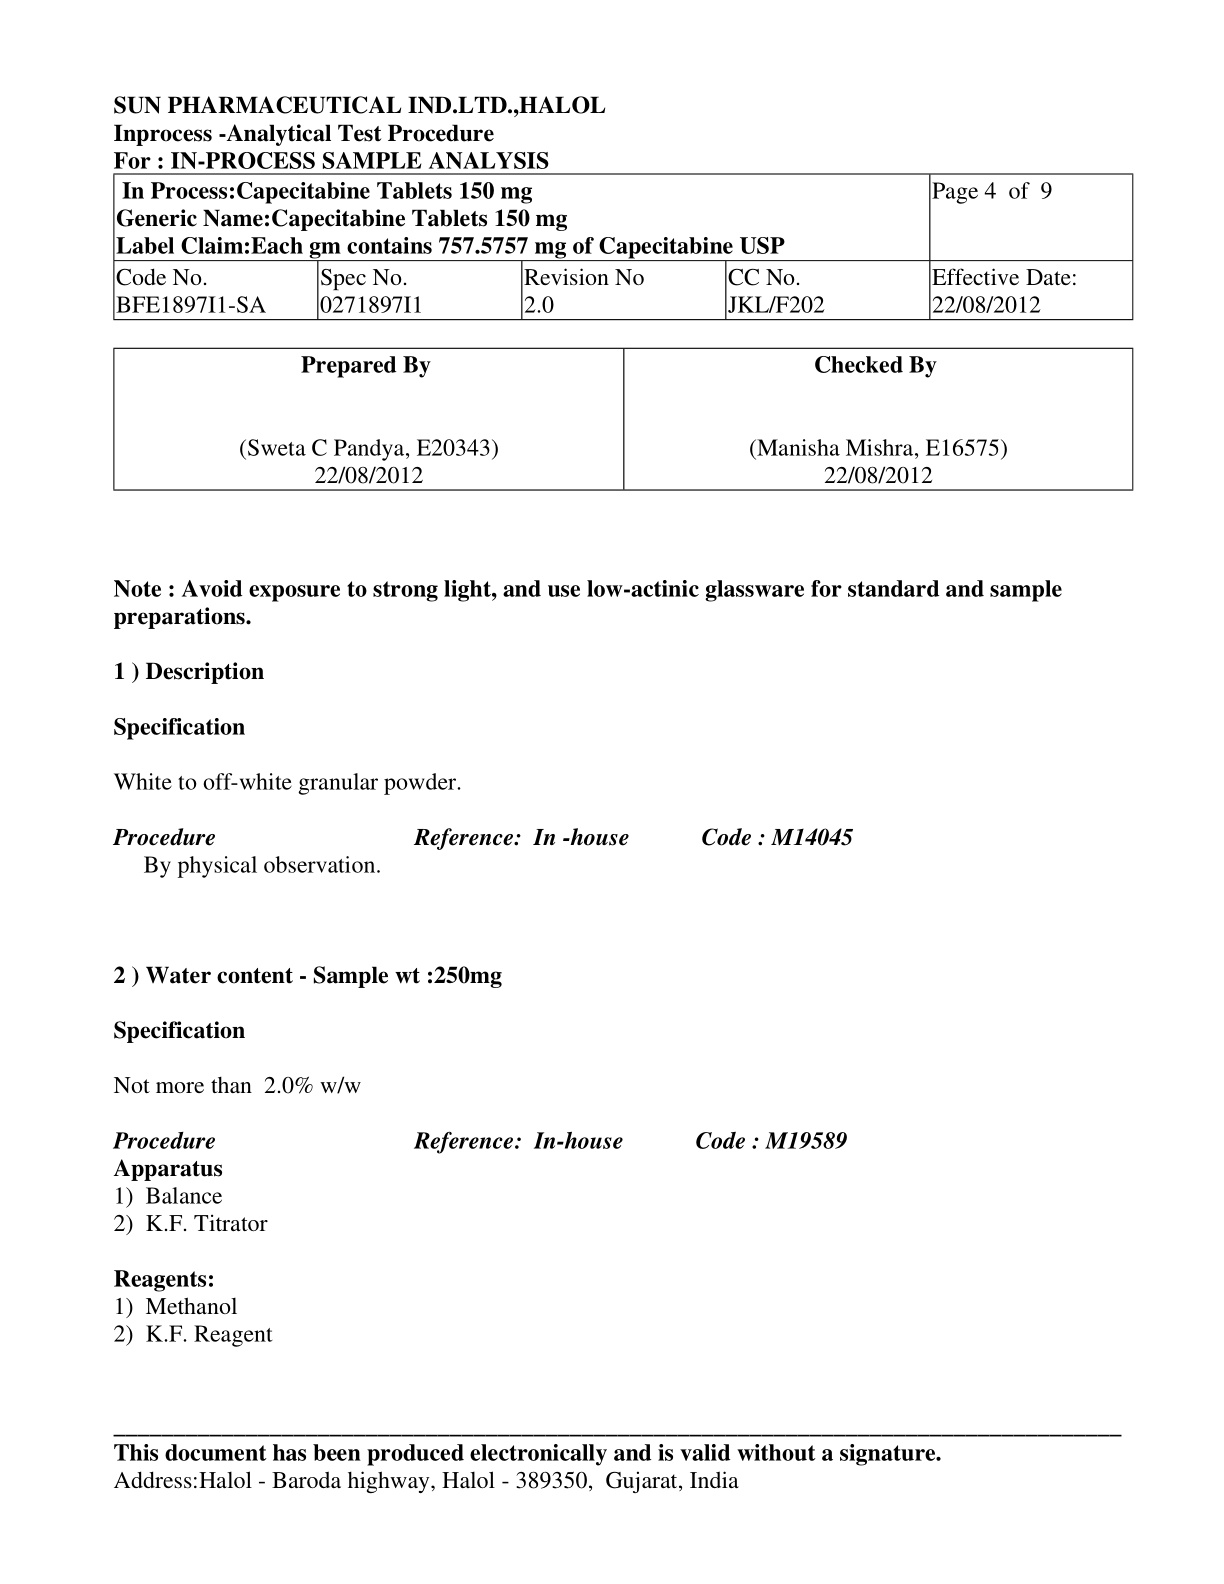full_lined: (112, 347, 1134, 490)
merged_cells: (112, 172, 1134, 320)
